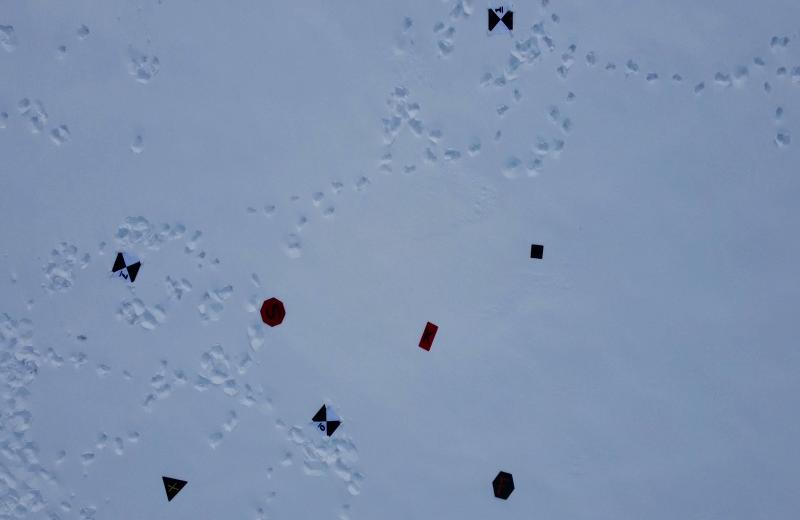Hexagon: (488, 468, 519, 505)
Octagon: (257, 296, 290, 330)
Rectangle: (418, 317, 437, 358)
Square: (526, 239, 545, 261)
Triangle: (155, 470, 193, 508)
